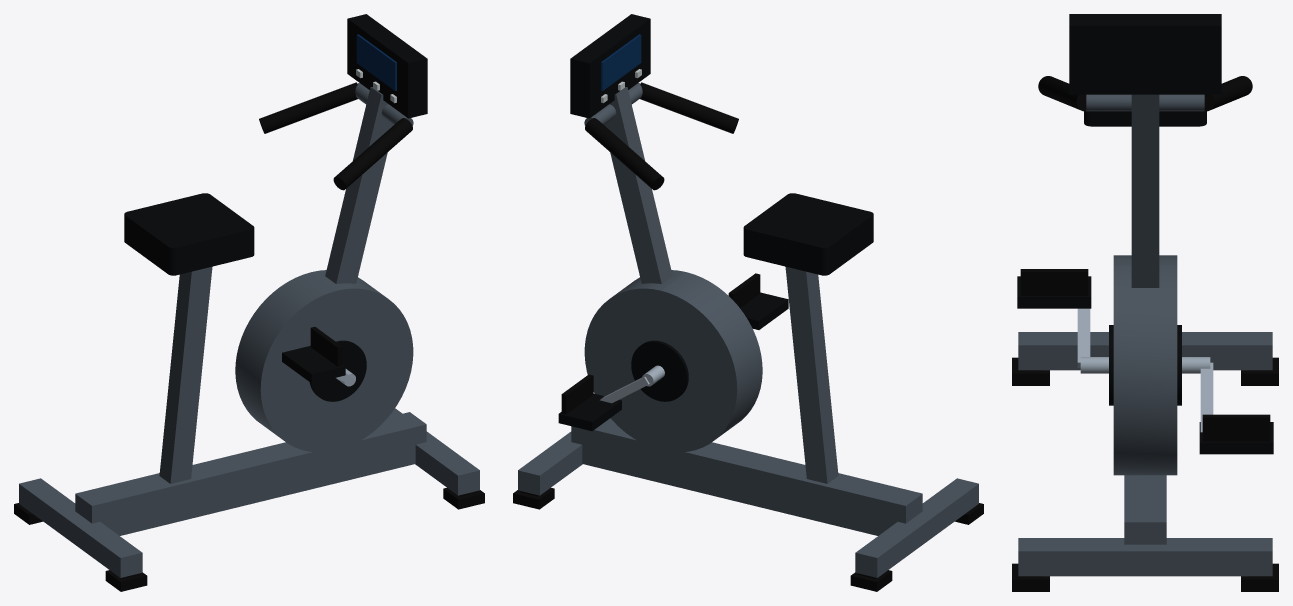
The model's file is cad_exercise_bike.glb.
3 views of the same model, side by side, from view 1: azimuth 30°, elevation 25°; view 2: azimuth 150°, elevation 25°; view 3: azimuth 270°, elevation 25° (orthographic). The views are drawn at different scales.
Visible parts, largest first — view 1: 007_Flywheel enclosure, 006_Central frame, 017_Bicycle saddle, 016_Seat mast, 010_Handle mast, 000_Stabilizer rail, 011_Control console, 003_Stabilizer rail, 021_Cycle handle, 025_Cycle handle, 009_Flywheel centre cover, 023_Pedal with strap (+2 smaller); view 2: 007_Flywheel enclosure, 006_Central frame, 017_Bicycle saddle, 016_Seat mast, 010_Handle mast, 000_Stabilizer rail, 011_Control console, 008_Flywheel centre cover, 003_Stabilizer rail, 025_Cycle handle, 021_Cycle handle, 019_Pedal with strap (+4 smaller); view 3: 007_Flywheel enclosure, 011_Control console, 003_Stabilizer rail, 000_Stabilizer rail, 010_Handle mast, 006_Central frame, 020_Pedal strap, 024_Pedal strap, 026_Handle support, 017_Bicycle saddle, 019_Pedal with strap, 023_Pedal with strap (+11 smaller).
Boxes of the visible parts, <box> form: 007_Flywheel enclosure: <box>235,270,413,452</box>; 006_Central frame: <box>75,412,426,535</box>; 017_Bicycle saddle: <box>124,193,254,275</box>; 016_Seat mast: <box>159,266,212,483</box>; 010_Handle mast: <box>325,87,393,283</box>; 000_Stabilizer rail: <box>19,478,142,577</box>; 011_Control console: <box>347,14,427,118</box>; 003_Stabilizer rail: <box>388,408,479,495</box>; 021_Cycle handle: <box>259,82,357,133</box>; 025_Cycle handle: <box>333,118,412,190</box>; 009_Flywheel centre cover: <box>309,340,366,401</box>; 023_Pedal with strap: <box>282,346,345,383</box>; 007_Flywheel enclosure: <box>584,270,762,452</box>; 006_Central frame: <box>571,418,922,535</box>; 017_Bicycle saddle: <box>743,193,873,275</box>; 016_Seat mast: <box>785,266,838,483</box>; 010_Handle mast: <box>604,87,672,283</box>; 000_Stabilizer rail: <box>855,478,978,577</box>; 011_Control console: <box>570,14,650,118</box>; 008_Flywheel centre cover: <box>631,340,688,401</box>; 003_Stabilizer rail: <box>518,431,582,495</box>; 025_Cycle handle: <box>640,82,738,133</box>; 021_Cycle handle: <box>585,118,664,190</box>; 019_Pedal with strap: <box>558,393,621,431</box>; 007_Flywheel enclosure: <box>1113,255,1177,475</box>; 011_Control console: <box>1069,14,1221,94</box>; 003_Stabilizer rail: <box>1018,538,1272,576</box>; 000_Stabilizer rail: <box>1018,332,1272,370</box>; 010_Handle mast: <box>1131,94,1159,287</box>; 006_Central frame: <box>1124,475,1166,544</box>; 020_Pedal strap: <box>1202,414,1270,441</box>; 024_Pedal strap: <box>1020,269,1088,295</box>; 026_Handle support: <box>1086,94,1204,111</box>; 017_Bicycle saddle: <box>1084,111,1206,126</box>; 019_Pedal with strap: <box>1199,422,1273,454</box>; 023_Pedal with strap: <box>1017,276,1091,308</box>.
Size of the model in its own units: 1.24 by 1.42 by 0.63.
